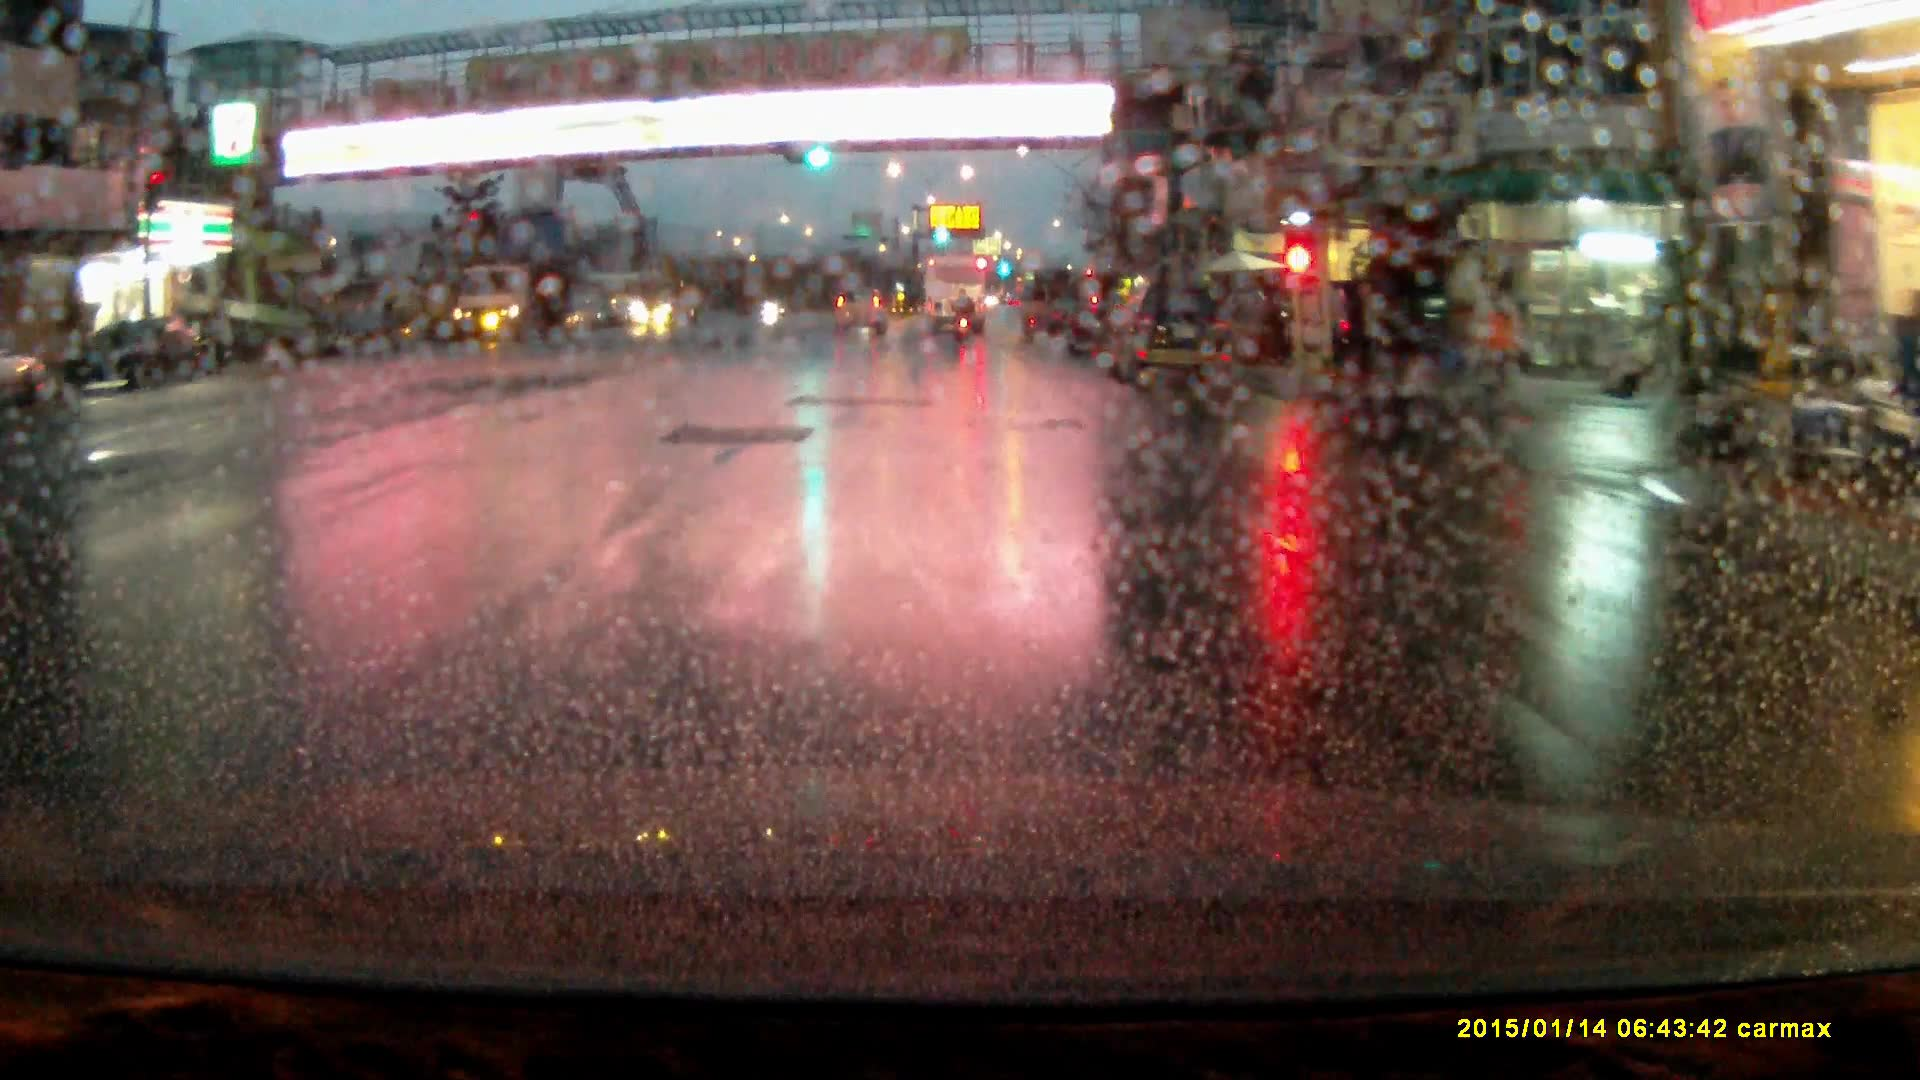pedestrian: (1465, 278, 1524, 443)
rider: (952, 288, 977, 345)
vehicle: (1105, 279, 1234, 393), (60, 321, 204, 397), (1335, 283, 1450, 372), (444, 262, 564, 342), (925, 257, 986, 336), (1, 331, 49, 416), (630, 281, 698, 331), (835, 291, 889, 340)
